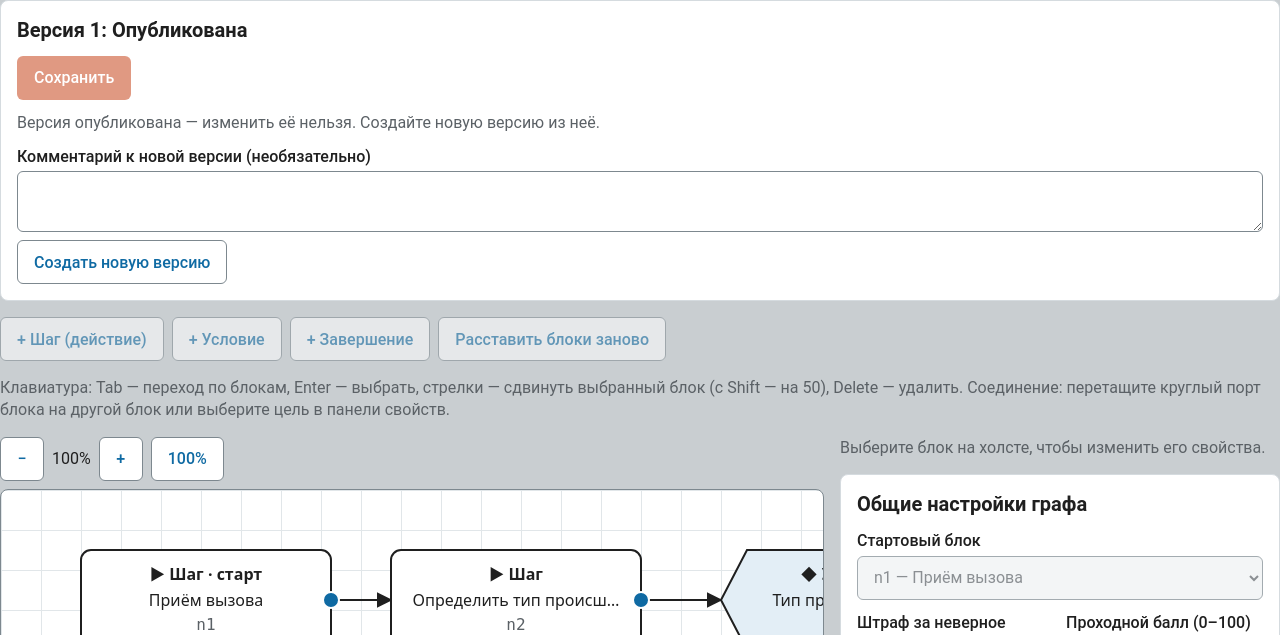
it: ScenarioGraphEditor: новая версия из принятой › 409 «уже есть неопубликованная версия» показывается понятным текстом, версия не меняется
Step 1. Click the button "Создать новую версию" → [122, 262], box [17,240,227,284]
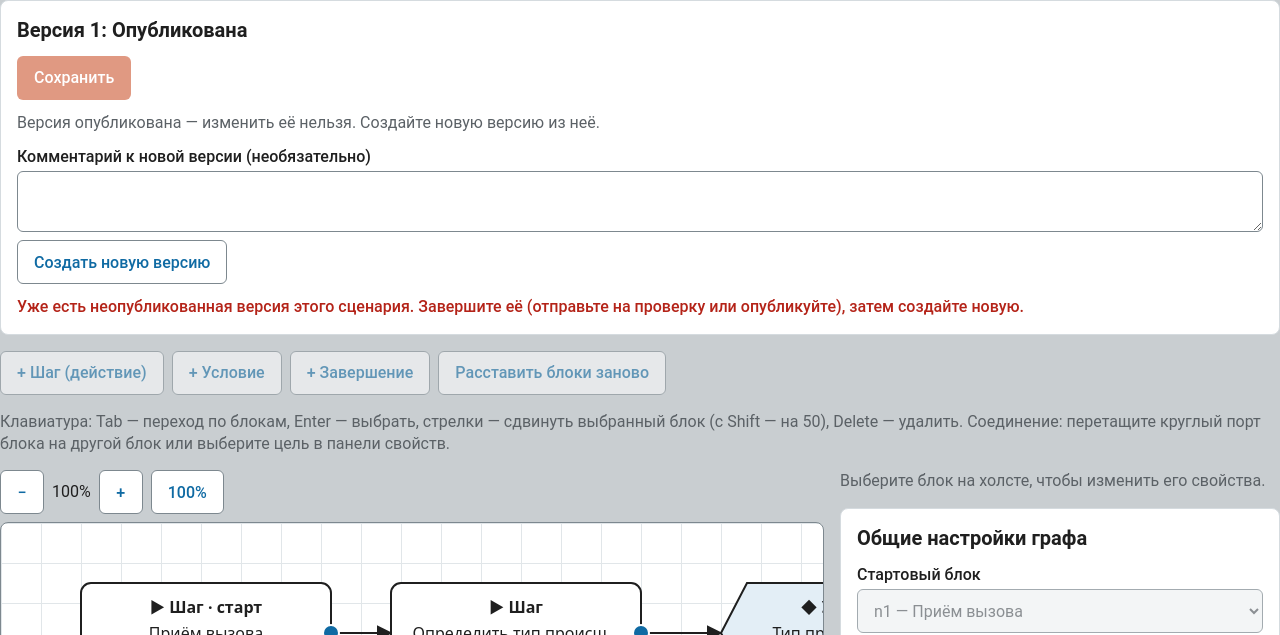
Expected: the text with test id "approval-status" reads "Опубликована", [112,18,247,42]
Now the message shows "Уже есть неопубликованная версия", box [17,297,1024,316]
